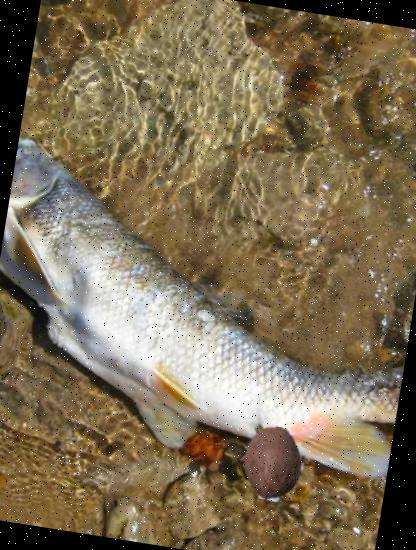Cocos: (231, 421, 316, 506)
